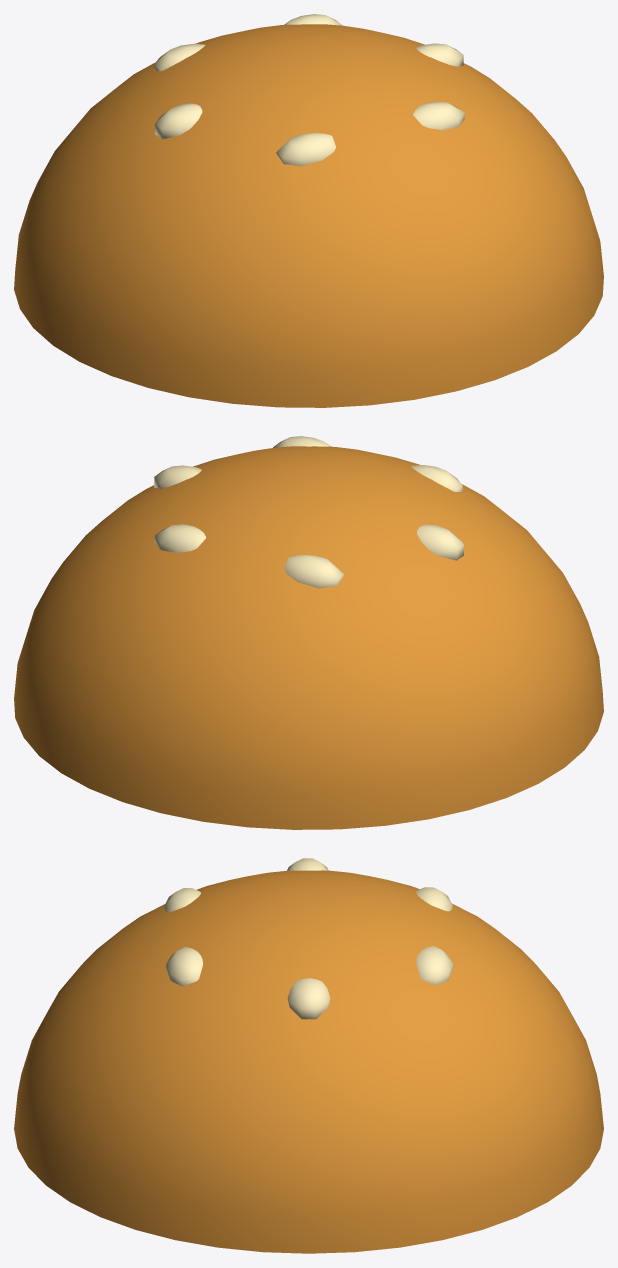
The model's file is item_bun.glb.
3 views of the same model, one above another, from view 1: azimuth 30°, elevation 25°; view 2: azimuth 150°, elevation 25°; view 3: azimuth 270°, elevation 25° (orthographic).
Parts seen in each view (by area): view 1: bun, seed.004, seed.003, seed.005, seed, seed.002; view 2: bun, seed.002, seed.003, seed.001, seed, seed.004; view 3: bun, seed, seed.005, seed.001, seed.004, seed.002.
Part boxes in pixels (x1,y1,x2,y2): bun: [14, 24, 603, 407]; seed.004: [276, 133, 335, 166]; seed.003: [155, 103, 202, 139]; seed.005: [413, 101, 464, 129]; seed: [416, 43, 463, 66]; seed.002: [154, 43, 205, 71]; bun: [14, 446, 603, 829]; seed.002: [284, 555, 343, 588]; seed.003: [417, 524, 463, 560]; seed.001: [154, 524, 205, 552]; seed: [154, 465, 201, 488]; seed.004: [411, 465, 462, 491]; bun: [14, 870, 603, 1253]; seed: [287, 978, 330, 1019]; seed.005: [166, 947, 203, 986]; seed.001: [416, 946, 453, 985]; seed.004: [164, 888, 200, 912]; seed.002: [415, 887, 452, 911].
Size of the model in its own units: 0.34 by 0.1445 by 0.34.
